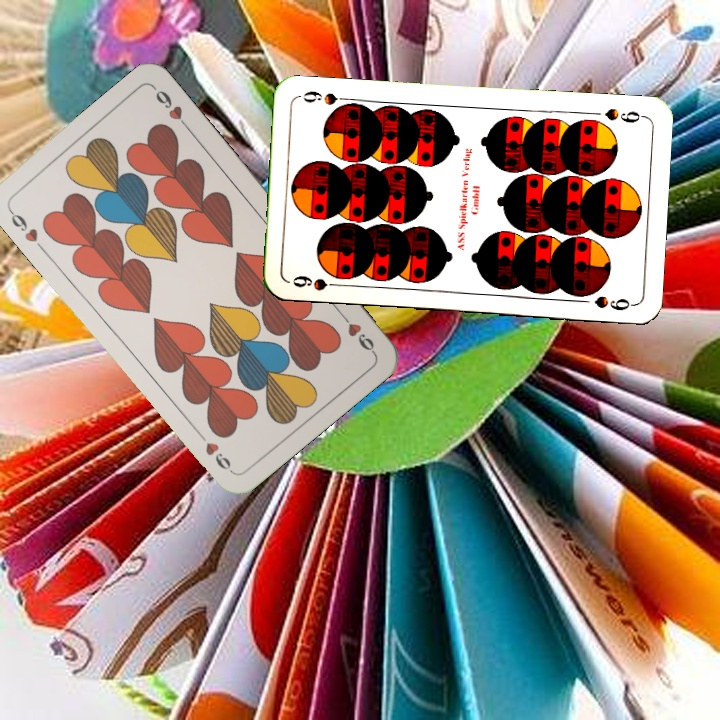H9: (334, 307, 377, 356), (4, 204, 41, 245)
S9: (288, 272, 346, 293), (601, 104, 647, 126)
